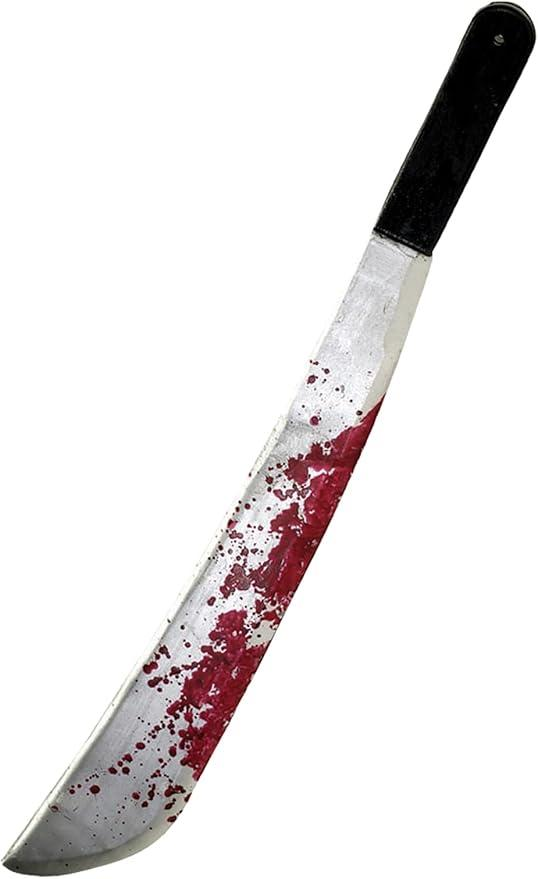Knife: (4, 0, 538, 876)
